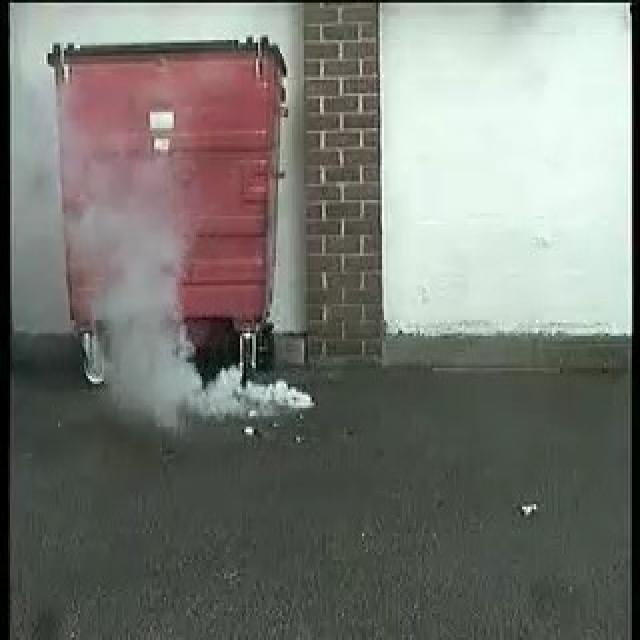smoke: (81, 182, 296, 414)
